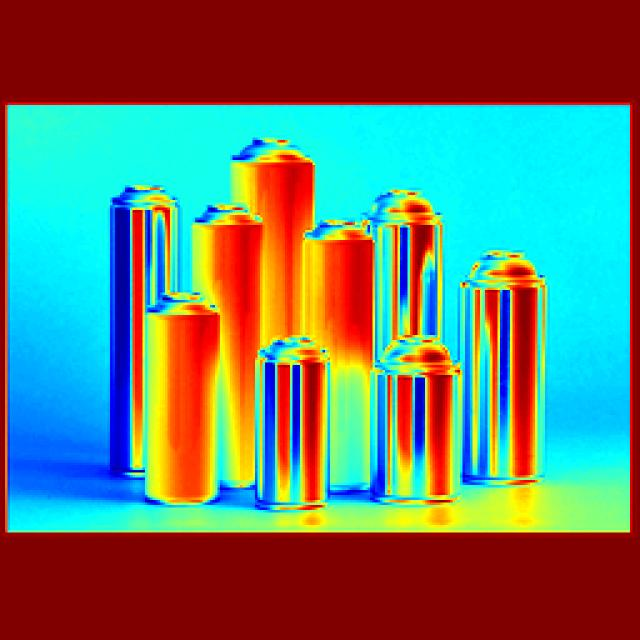Aerosol Cans: (452, 239, 554, 499)
